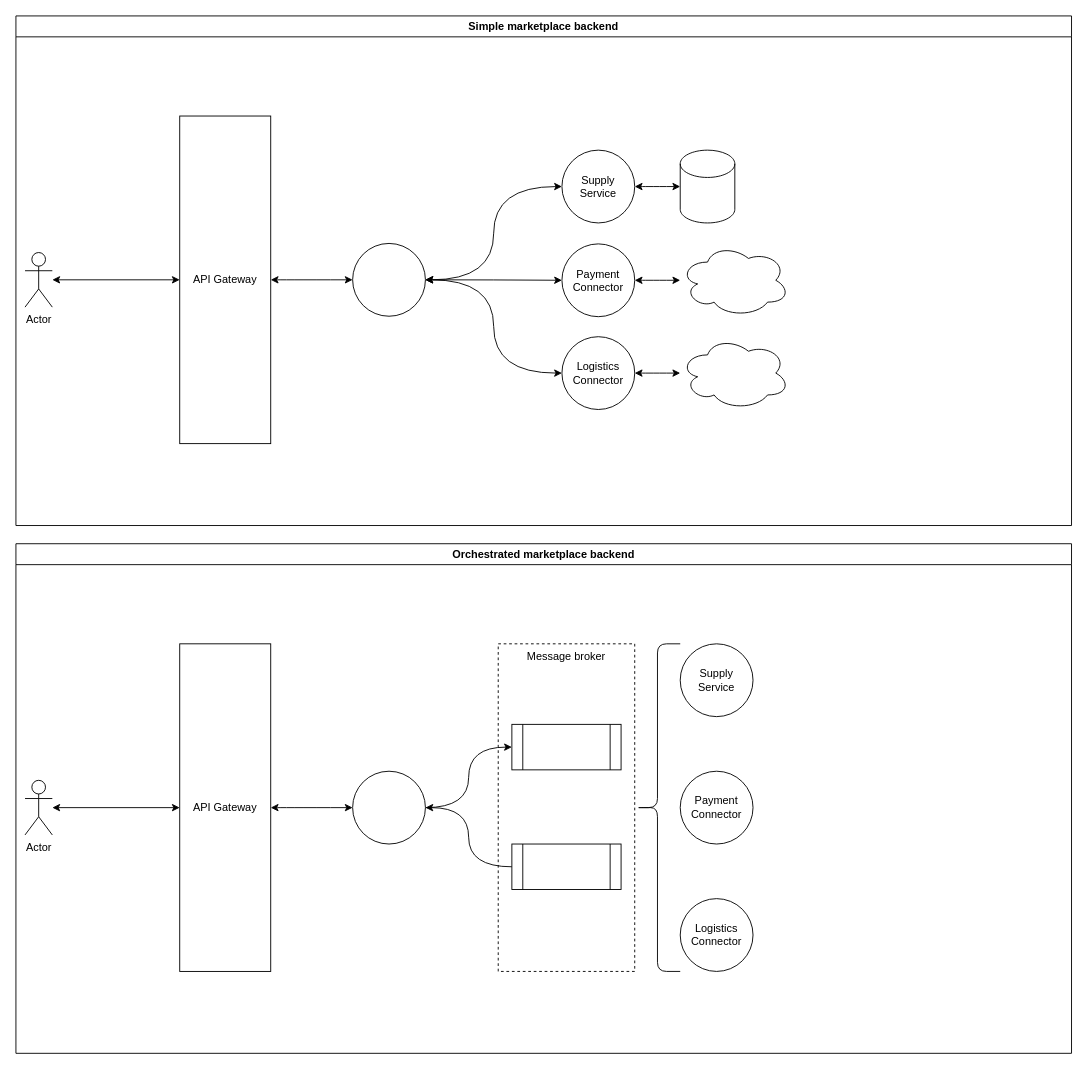
The diagram is 1087 pixels wide and 1069 high, and some of its shapes have lost their labels. The centre of each missing label's shape, as x and y in pixels:
Logistics Service: the point at 734,373
Orchestrator Command Channel: the point at 566,746
Orchestrator Reply Channel: the point at 566,866
Order Orchestrator: the point at 388,807
Order Service: the point at 388,279
Payment Service: the point at 734,280
supply db: the point at 707,186
